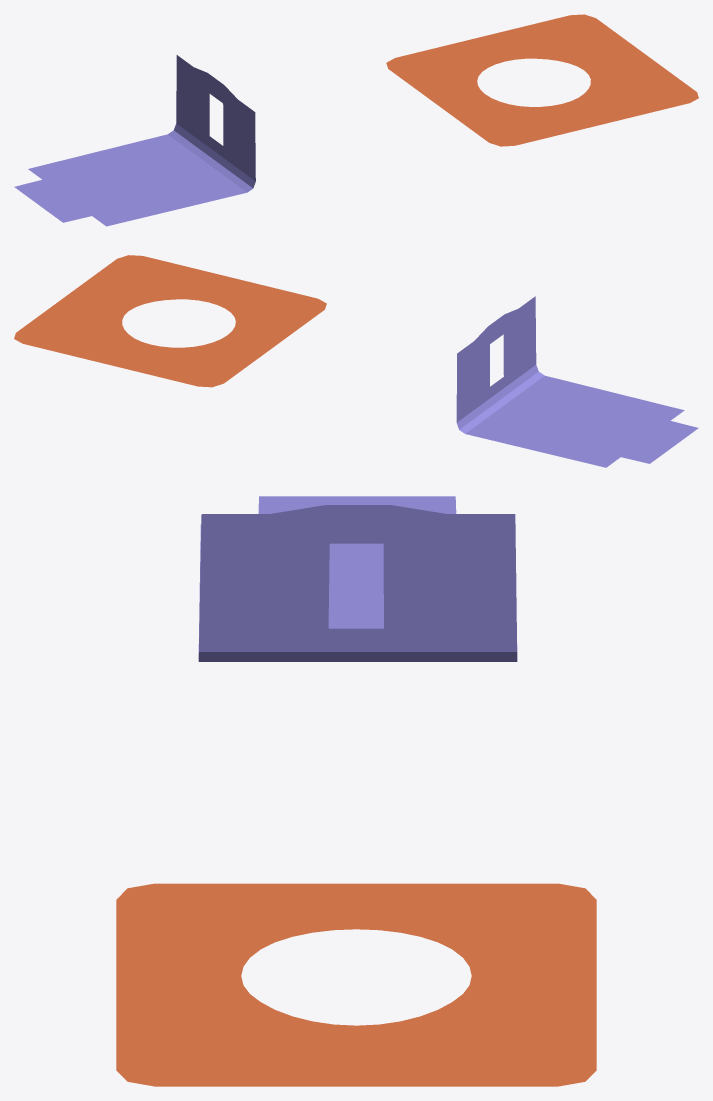
File: ouais les gravure.fbx
3 views of the same model, one above another, from view 1: azimuth 30°, elevation 25°; view 2: azimuth 150°, elevation 25°; view 3: azimuth 270°, elevation 25° (orthographic). The views are drawn at different scales.
Visible parts, largest first — view 1: salle_final_low, PERMIERE_SALLE_low; view 2: salle_final_low, PERMIERE_SALLE_low; view 3: salle_final_low, PERMIERE_SALLE_low.
Boxes of the visible parts, box(x1,y1,x2,y2) form: salle_final_low: box(386, 14, 698, 146); PERMIERE_SALLE_low: box(14, 55, 255, 226); salle_final_low: box(14, 255, 326, 387); PERMIERE_SALLE_low: box(456, 296, 698, 467); salle_final_low: box(116, 883, 596, 1086); PERMIERE_SALLE_low: box(198, 496, 517, 661).
Size of the model in its own units: 23.89 by 69.83 by 9.05.
